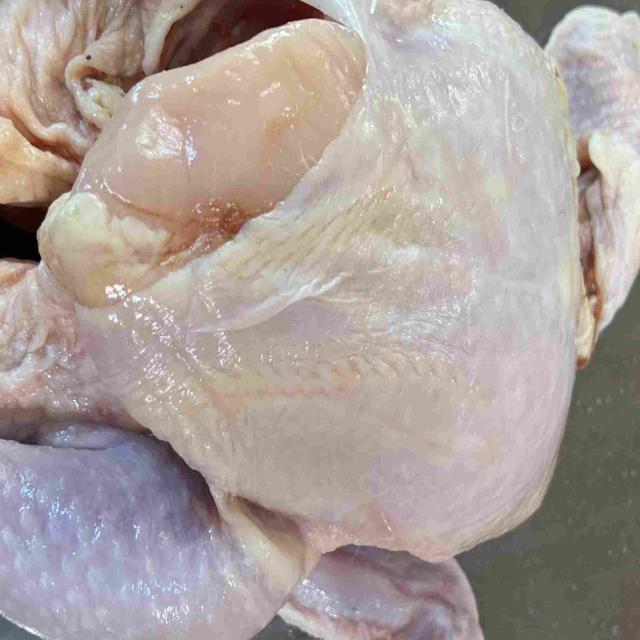breast: (42, 0, 577, 554)
leg: (0, 424, 304, 640)
neck: (547, 2, 640, 349)
wing: (282, 533, 483, 640)
